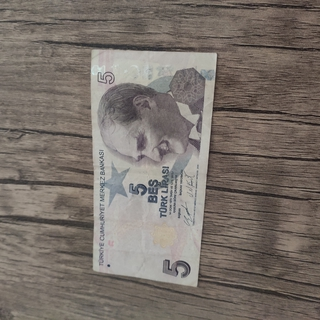5TLFront: (90, 47, 218, 288)
